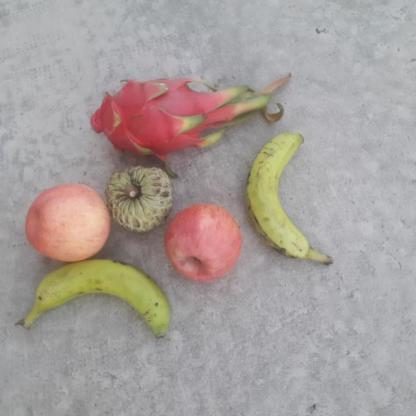annona: (102, 163, 177, 232)
apple: (23, 181, 110, 263), (164, 204, 240, 283)
banana: (27, 258, 171, 341), (242, 129, 312, 264)
pitaya: (85, 76, 215, 156)
